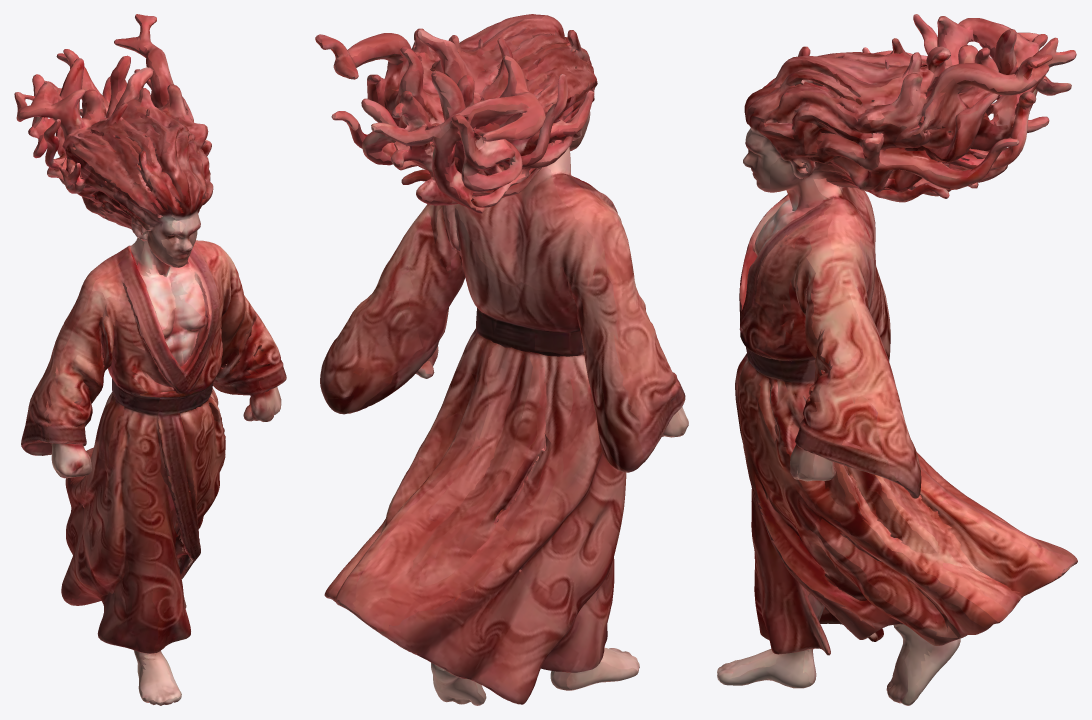
The model's file is zhurong.glb.
3 views of the same model, side by side, from view 1: azimuth 30°, elevation 25°; view 2: azimuth 150°, elevation 25°; view 3: azimuth 270°, elevation 25° (orthographic). The views are drawn at different scales.
Parts seen in each view (by area): view 1: geometry_0; view 2: geometry_0; view 3: geometry_0.
Boxes of the visible parts, box(x1,y1,x2,y2) form: geometry_0: box(14, 14, 286, 705); geometry_0: box(315, 14, 688, 705); geometry_0: box(717, 14, 1077, 705).
Size of the model in its own units: 0.1038 by 0.22 by 0.1049.
Materials: 1 (1 with a texture image).
